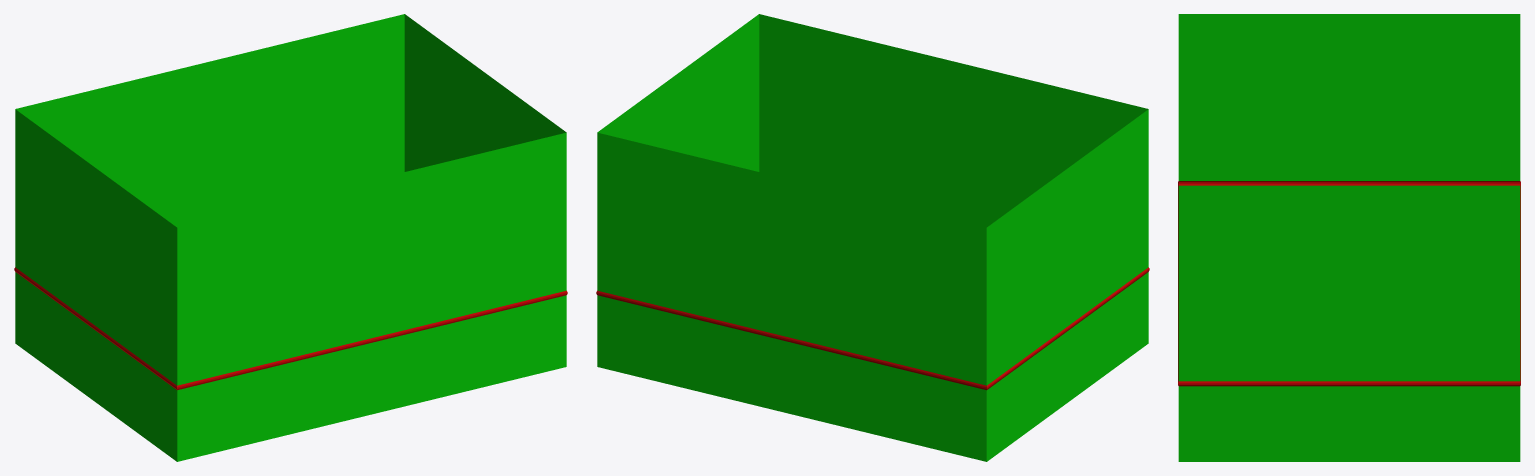
The model's file is Building02_Middle_Nice.fbx.
3 views of the same model, side by side, from view 1: azimuth 30°, elevation 25°; view 2: azimuth 150°, elevation 25°; view 3: azimuth 270°, elevation 25° (orthographic). The views are drawn at different scales.
Parts seen in each view (by area): view 1: Building2_Middle; view 2: Building2_Middle; view 3: Building2_Middle.
Boxes of the visible parts, left/top/right/bottom form: Building2_Middle: left=14, top=14, right=567, bottom=461; Building2_Middle: left=596, top=14, right=1149, bottom=461; Building2_Middle: left=1178, top=14, right=1520, bottom=461.
Size of the model in its own units: 535 by 306 by 385.
